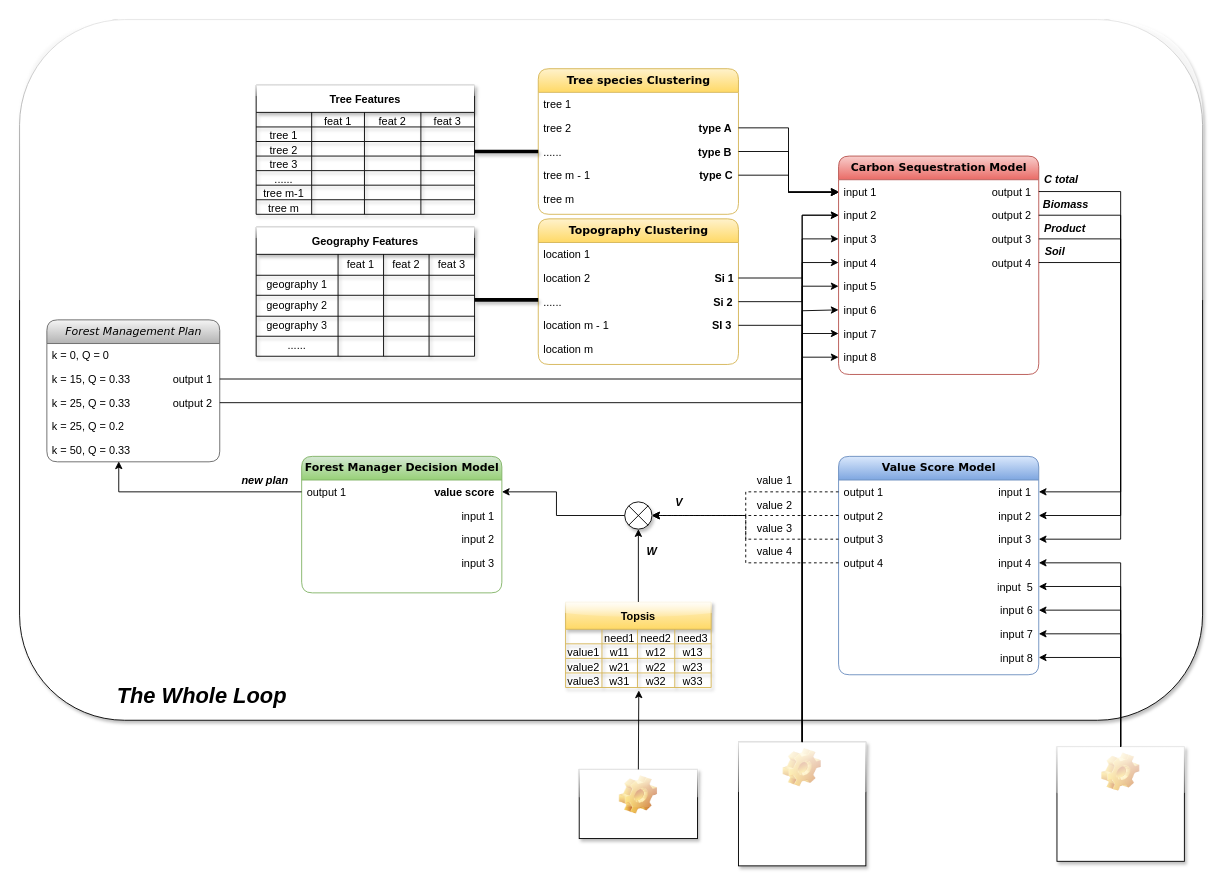
Some shapes in this 1224 by 888 pixel diagram are drawn without their labels. The shapes that lost their labels are listed below. From the top down, each one's centre as x and y in pixels, then its label:
(639,805): needs
(802,805): forest size product lifespan ratio total years harvesting mixed breed
(1121,805): precipitation humidity wind speed GDP
